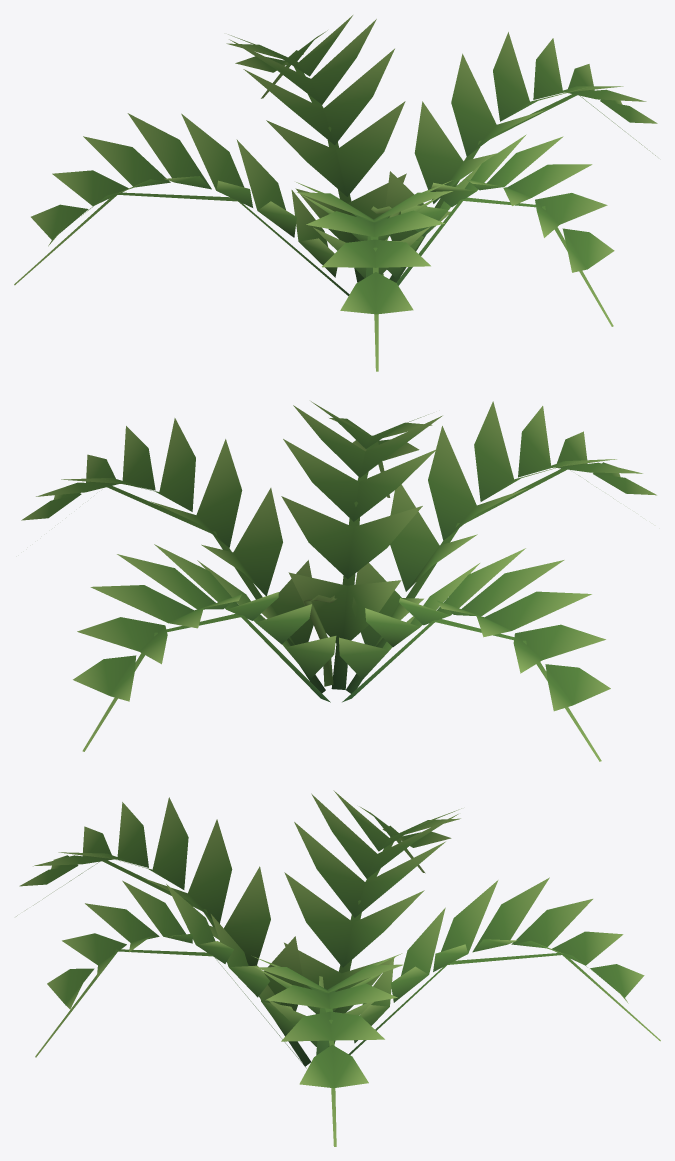
File: deco-fern-v1.glb
The picture shows the model from 3 angles, top to bottom: view 1: azimuth 30°, elevation 25°; view 2: azimuth 150°, elevation 25°; view 3: azimuth 270°, elevation 25°; orthographic projection. The views are drawn at different scales.
Parts seen in each view (by area): view 1: 0_fern; view 2: 0_fern; view 3: 0_fern.
Part boxes in pixels (bbox=[...]): 0_fern: bbox=[14, 15, 657, 371]; 0_fern: bbox=[21, 401, 656, 761]; 0_fern: bbox=[16, 790, 660, 1146].
Bounding box in the file's own units: 1.45 × 0.4657 × 1.38.
